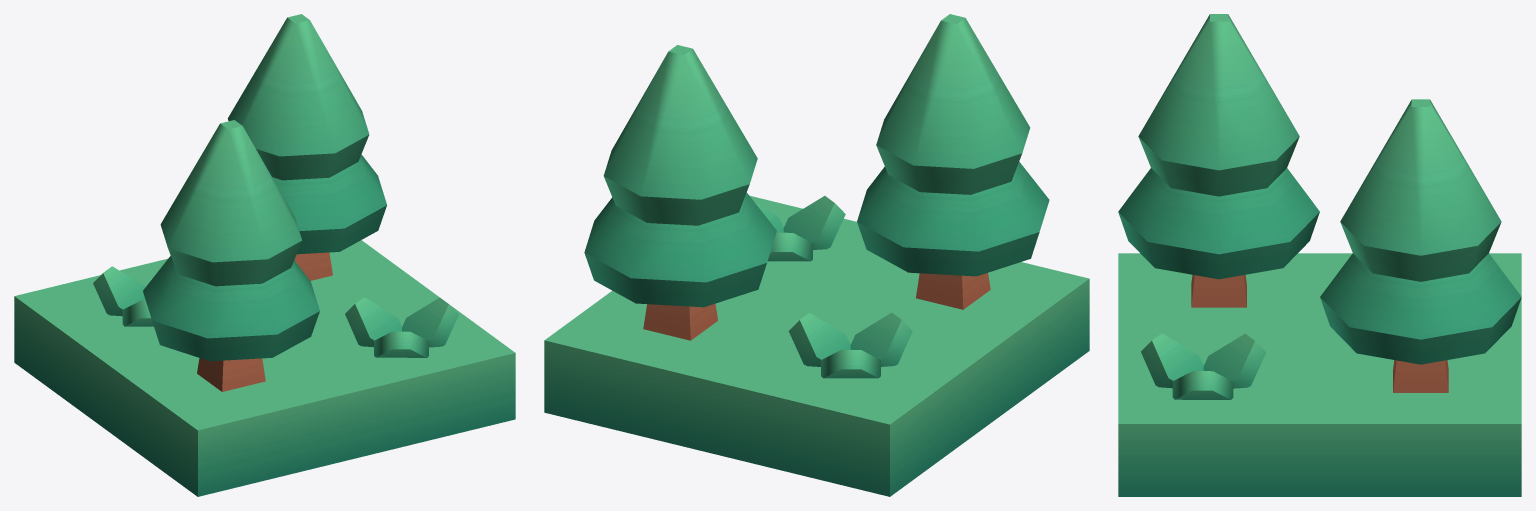
File: kenney-tower-defense-tile-tree-double.glb
3 renders of one model, left to right at view 1: azimuth 30°, elevation 25°; view 2: azimuth 150°, elevation 25°; view 3: azimuth 270°, elevation 25°, orthographic. The views are drawn at different scales.
Visible parts, largest first — view 1: tile-tree-double; view 2: tile-tree-double; view 3: tile-tree-double.
Boxes of the visible parts, x1,y1,x2,y2 form: tile-tree-double: (14,14,515,496); tile-tree-double: (544,14,1089,496); tile-tree-double: (1118,14,1521,496).
Size of the model in its own units: 1 by 0.96 by 1.
1 material, 1 textured.
